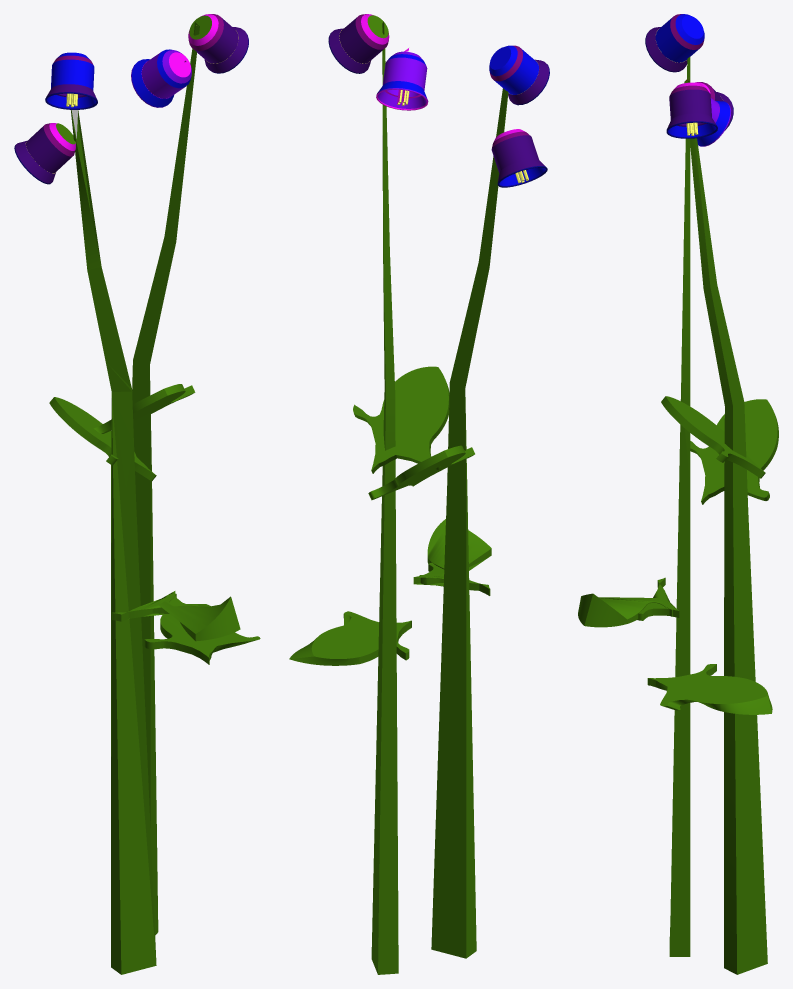
The model's file is Shrub_2_flower2.dae.
The picture shows the model from 3 angles, left to right: view 1: azimuth 30°, elevation 25°; view 2: azimuth 150°, elevation 25°; view 3: azimuth 270°, elevation 25°; orthographic projection. The views are drawn at different scales.
Visible parts, largest first — view 1: SketchUp (×13); view 2: SketchUp (×13); view 3: SketchUp (×11).
Part boxes in pixels (bbox=[...]): SketchUp (×13): bbox=[15, 17, 260, 974]; SketchUp (×13): bbox=[289, 17, 549, 974]; SketchUp (×11): bbox=[578, 14, 778, 974].
Size of the model in its own units: 3.1 by 2.45 by 12.19.
Materials: 10 (1 with a texture image).
